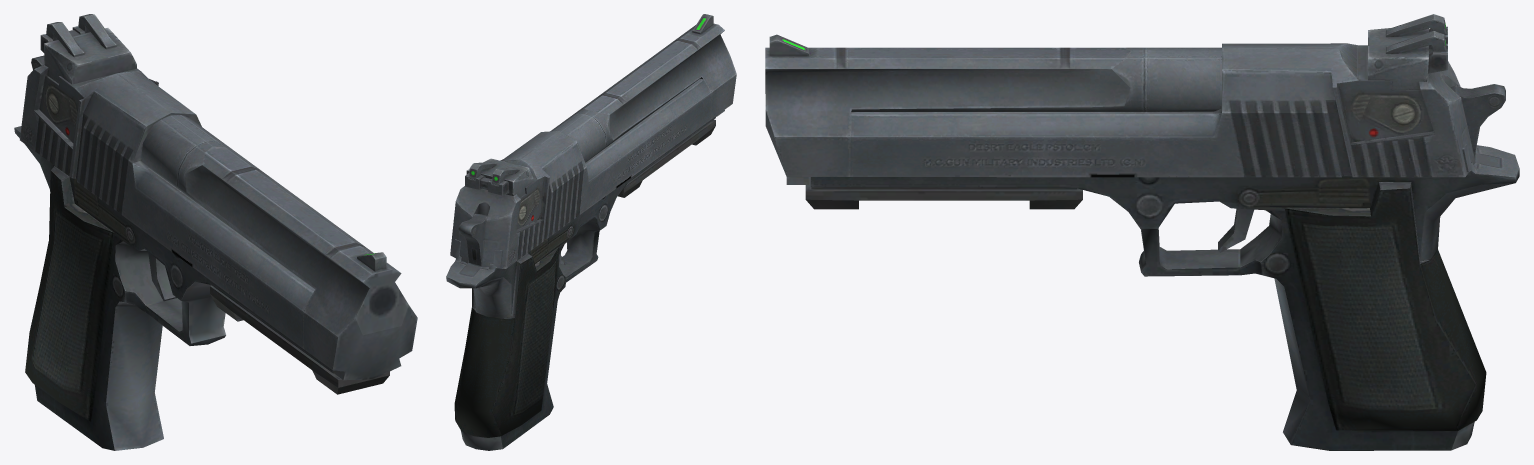
The model's file is Pistol_sq_03_Main_(000112).glb.
3 views of the same model, side by side, from view 1: azimuth 30°, elevation 25°; view 2: azimuth 150°, elevation 25°; view 3: azimuth 270°, elevation 25° (orthographic). The views are drawn at different scales.
Parts seen in each view (by area): view 1: sq_03; view 2: sq_03; view 3: sq_03.
Part boxes in pixels (x1,y1,x2,y2): sq_03: [14, 14, 417, 450]; sq_03: [446, 14, 736, 450]; sq_03: [765, 14, 1519, 450].
Size of the model in its own units: 0.0539 by 0.2241 by 0.3732.
1 material, 1 textured.
